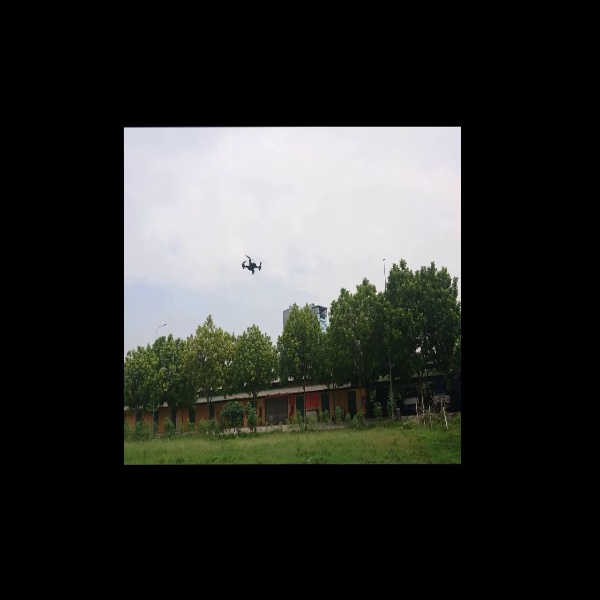drone: (237, 245, 265, 281)
